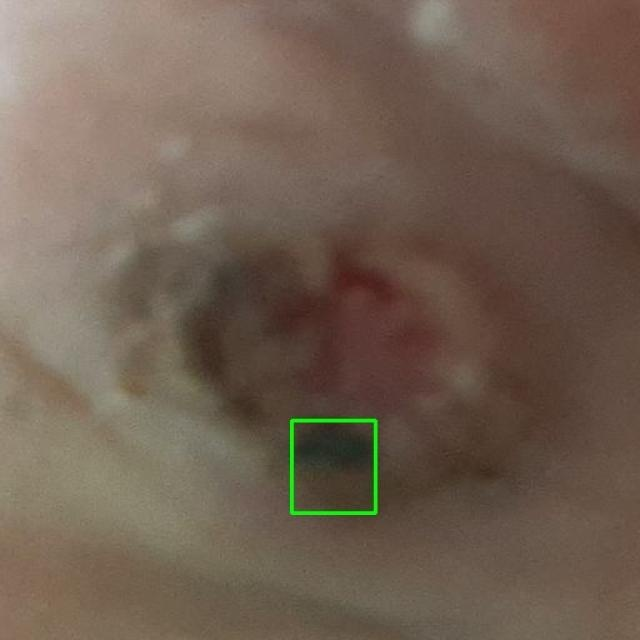Eczema: (291, 420, 375, 512)
